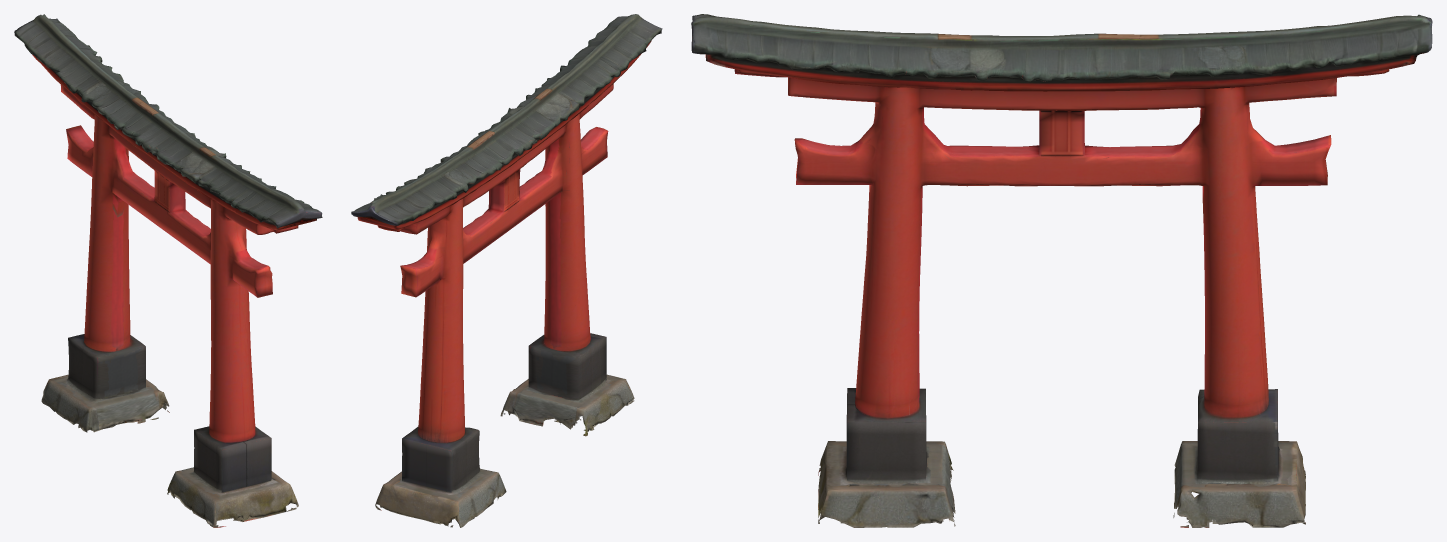
The model's file is Create_a_highly_detai_0623000107_texture.fbx.
The picture shows the model from 3 angles, left to right: view 1: azimuth 30°, elevation 25°; view 2: azimuth 150°, elevation 25°; view 3: azimuth 270°, elevation 25°; orthographic projection. The views are drawn at different scales.
Parts seen in each view (by area): view 1: Mesh1; view 2: Mesh1; view 3: Mesh1.
Part boxes in pixels (box(x1,y1,x2,y2)): Mesh1: box(14, 14, 322, 527); Mesh1: box(351, 14, 662, 527); Mesh1: box(691, 14, 1432, 527).
Size of the model in its own units: 37.05 by 143 by 199.
1 material, 1 textured.
